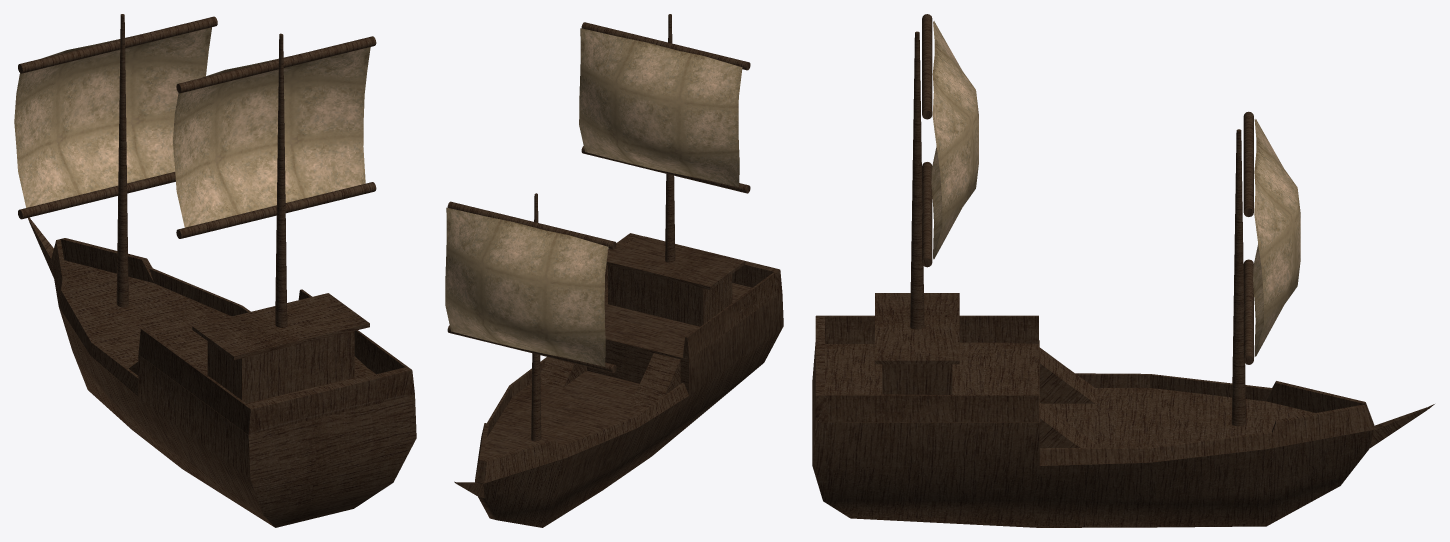
File: NavioBasico.fbx
3 views of the same model, side by side, from view 1: azimuth 30°, elevation 25°; view 2: azimuth 150°, elevation 25°; view 3: azimuth 270°, elevation 25° (orthographic). The views are drawn at different scales.
Visible parts, largest first — view 1: CorpoNavio, VelaTraseira, VelaFrontal; view 2: CorpoNavio, VelaTraseira, VelaFrontal; view 3: CorpoNavio, VelaTraseira, VelaFrontal.
Part boxes in pixels (left/top/right/bottom): CorpoNavio: left=28, top=217, right=416, bottom=527; VelaTraseira: left=173, top=33, right=376, bottom=327; VelaFrontal: left=14, top=14, right=217, bottom=307; CorpoNavio: left=454, top=233, right=783, bottom=527; VelaTraseira: left=579, top=14, right=750, bottom=262; VelaFrontal: left=445, top=193, right=616, bottom=441; CorpoNavio: left=812, top=293, right=1434, bottom=527; VelaTraseira: left=910, top=14, right=978, bottom=329; VelaFrontal: left=1231, top=111, right=1300, bottom=426.
Bounding box in the file's own units: 1020 × 2373 × 2777.
